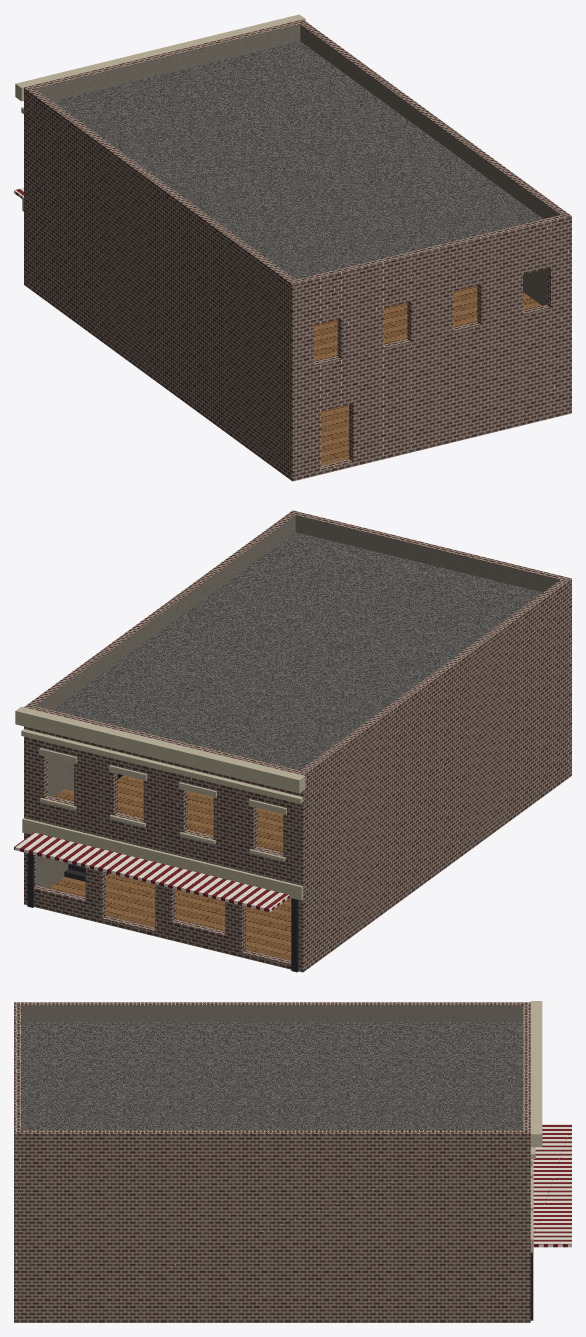
Rendered from main_street_dark_12m_2st.glb.
The picture shows the model from 3 angles, top to bottom: view 1: azimuth 30°, elevation 25°; view 2: azimuth 150°, elevation 25°; view 3: azimuth 270°, elevation 25°; orthographic projection. The views are drawn at different scales.
Visible parts, largest first — view 1: main_street_dark_12m_2st; view 2: main_street_dark_12m_2st; view 3: main_street_dark_12m_2st.
Boxes of the visible parts, <box> form: main_street_dark_12m_2st: <box>14,14,571,481</box>; main_street_dark_12m_2st: <box>14,510,571,972</box>; main_street_dark_12m_2st: <box>14,1001,571,1322</box>.
Bounding box in the file's own units: 12.2 × 8.1 × 21.6.
Materials: 7 (7 with a texture image).
